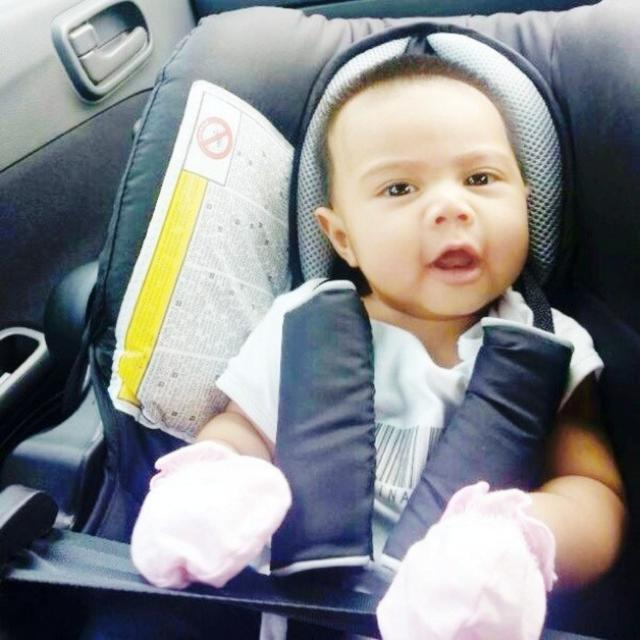SafeDriving: (368, 164, 430, 207), (453, 154, 510, 197)
Seatbelt: (272, 290, 372, 572)
